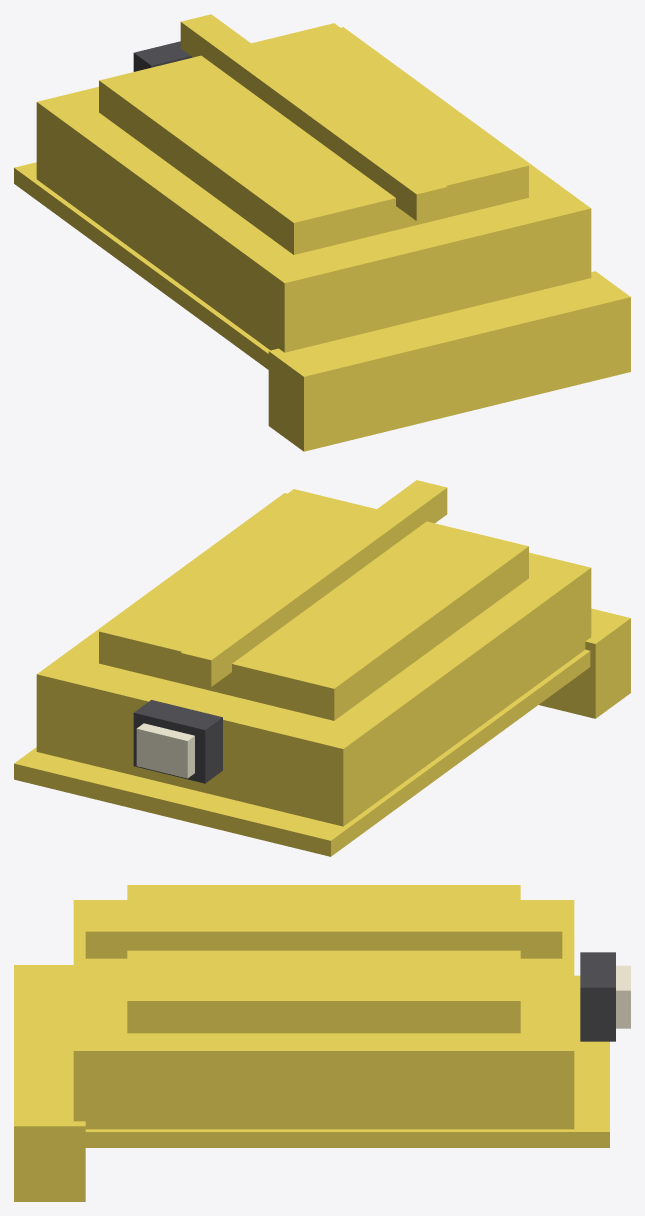
The model's file is capacete_bombeiro.glb.
The picture shows the model from 3 angles, top to bottom: view 1: azimuth 30°, elevation 25°; view 2: azimuth 150°, elevation 25°; view 3: azimuth 270°, elevation 25°; orthographic projection.
Visible parts, largest first — view 1: capacete_bombeiro; view 2: capacete_bombeiro; view 3: capacete_bombeiro.
Part boxes in pixels (left/top/right/bottom): capacete_bombeiro: left=14, top=14, right=630, bottom=451; capacete_bombeiro: left=14, top=480, right=630, bottom=856; capacete_bombeiro: left=14, top=885, right=630, bottom=1201.
Bounding box in the file's own units: 0.64 × 0.365 × 1.03.
